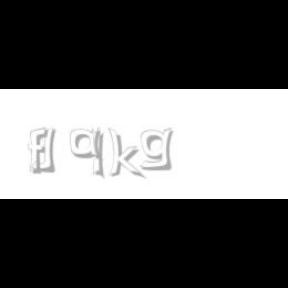I: (92, 128, 106, 180)
J: (30, 128, 55, 172)
a: (70, 128, 108, 160)
f: (28, 128, 52, 174)
g: (140, 128, 177, 171)
k: (107, 128, 145, 180)
